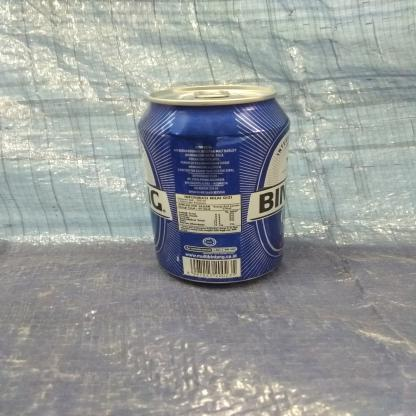bottle: (133, 76, 296, 291)
